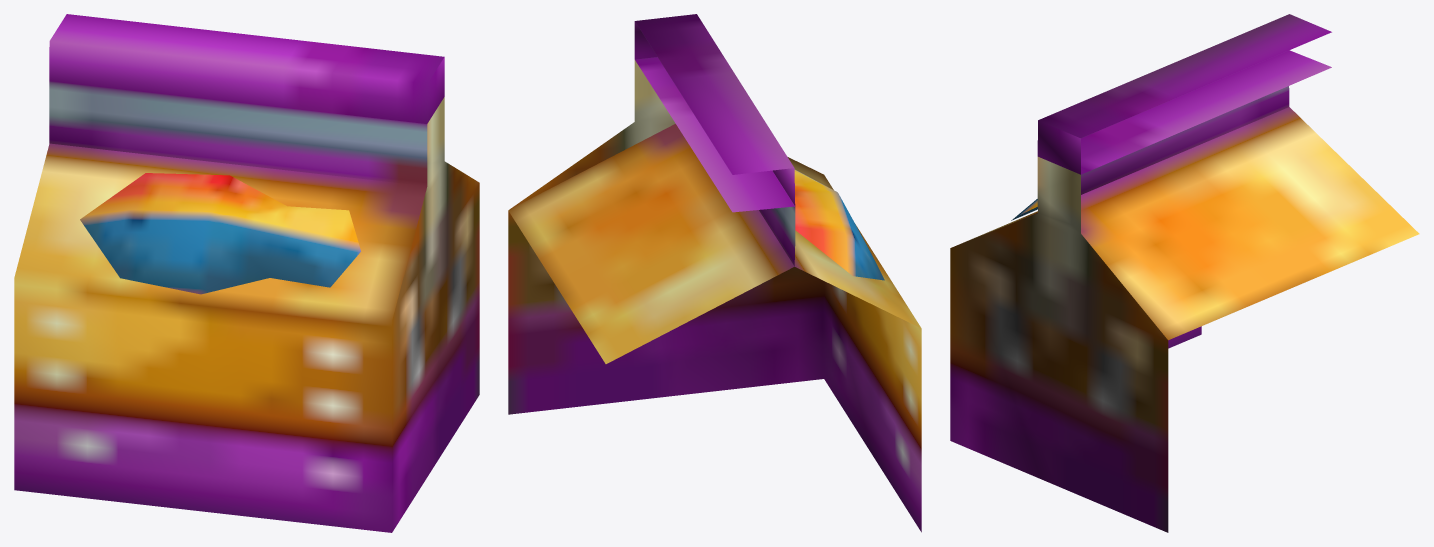
The model's file is fg_G_toolbox_B_out.dae.
3 renders of one model, left to right at view 1: azimuth 30°, elevation 25°; view 2: azimuth 150°, elevation 25°; view 3: azimuth 270°, elevation 25°, orthographic. The views are drawn at different scales.
Parts seen in each view (by area): view 1: fg_G_toolbox_B_out; view 2: fg_G_toolbox_B_out; view 3: fg_G_toolbox_B_out.
Boxes of the visible parts, x1,y1,x2,y2 form: fg_G_toolbox_B_out: [14, 14, 479, 532]; fg_G_toolbox_B_out: [508, 14, 921, 532]; fg_G_toolbox_B_out: [950, 14, 1419, 532].
Bounding box in the file's own units: 19.8 × 16.64 × 19.8.
Materials: 1 (1 with a texture image).
